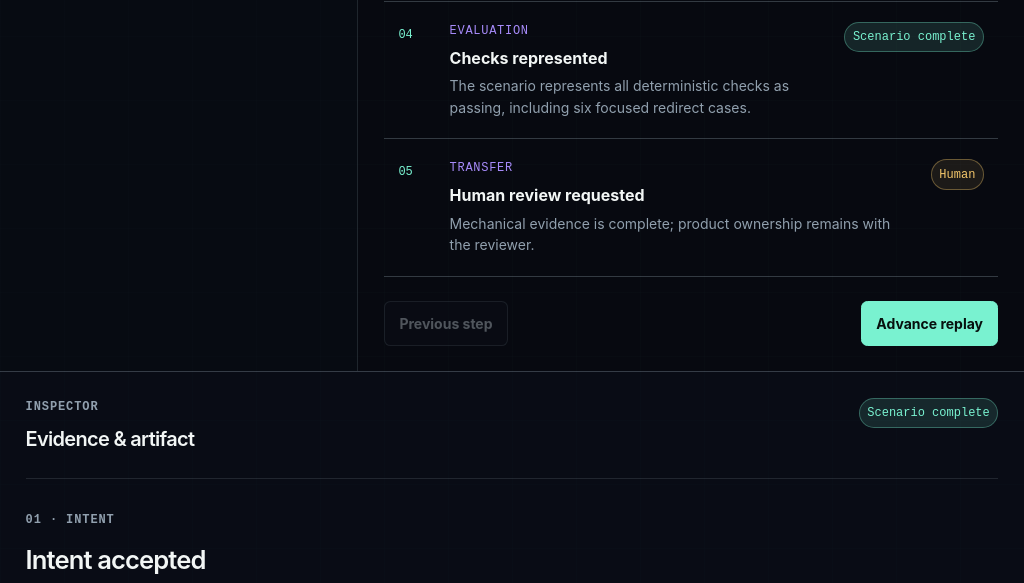
Scenario: RunExplorer › advances to the human-review transfer
The width and height of the screenshot is (1024, 583).
(page scrolled)
Click the button "Human review requested" at point(481, 168), box [384,140,998,276]
(page scrolled)
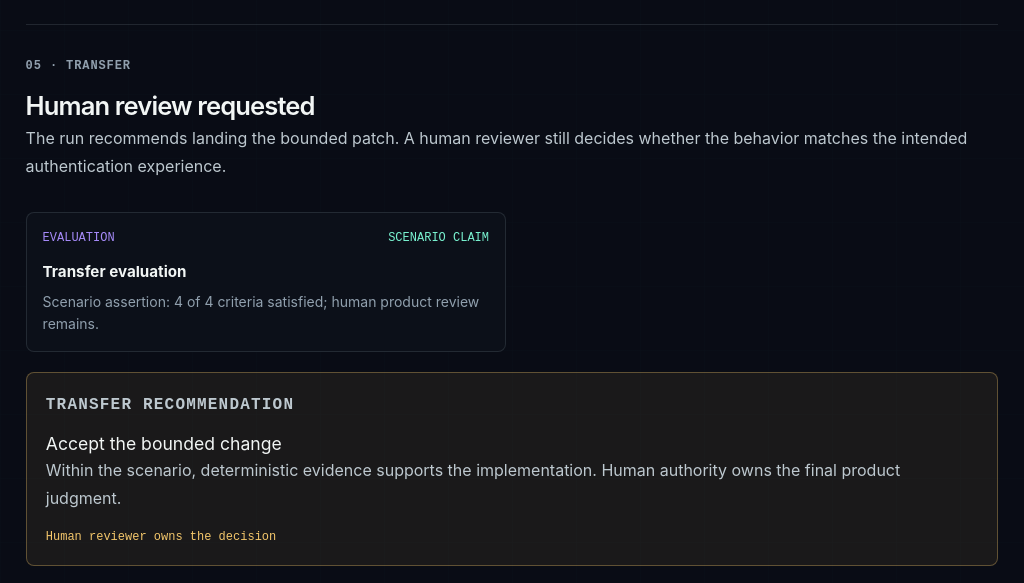
Expected: the heading "Accept the bounded change" is shown, [46,433,282,454]
Expected: the text "Human reviewer owns the decision" is shown, [46,530,276,544]
